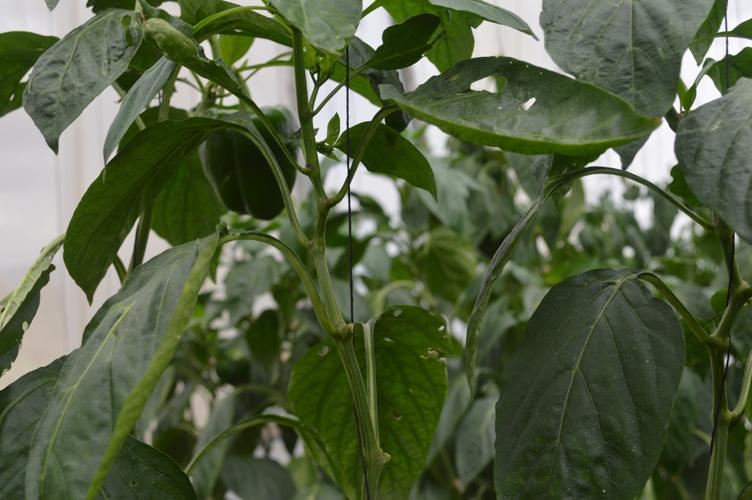BellPepper: (189, 94, 307, 232)
